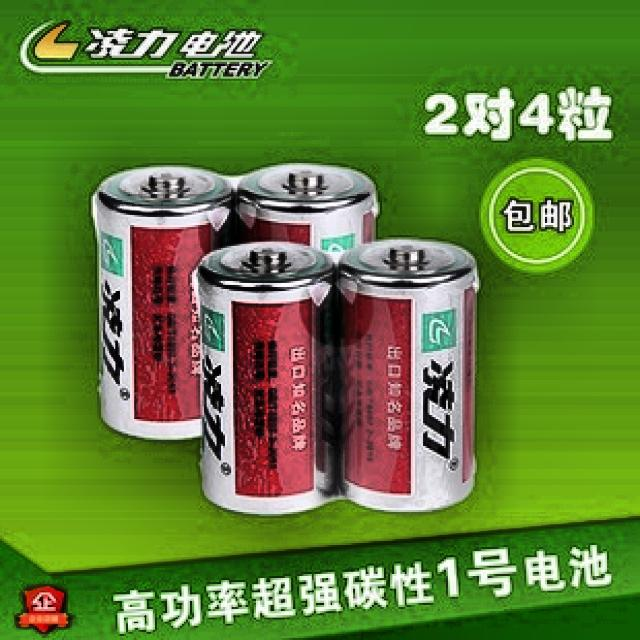Non-Valuable Waste - Batteries: (93, 167, 233, 438), (339, 239, 477, 511), (196, 243, 334, 513), (240, 164, 377, 262)
